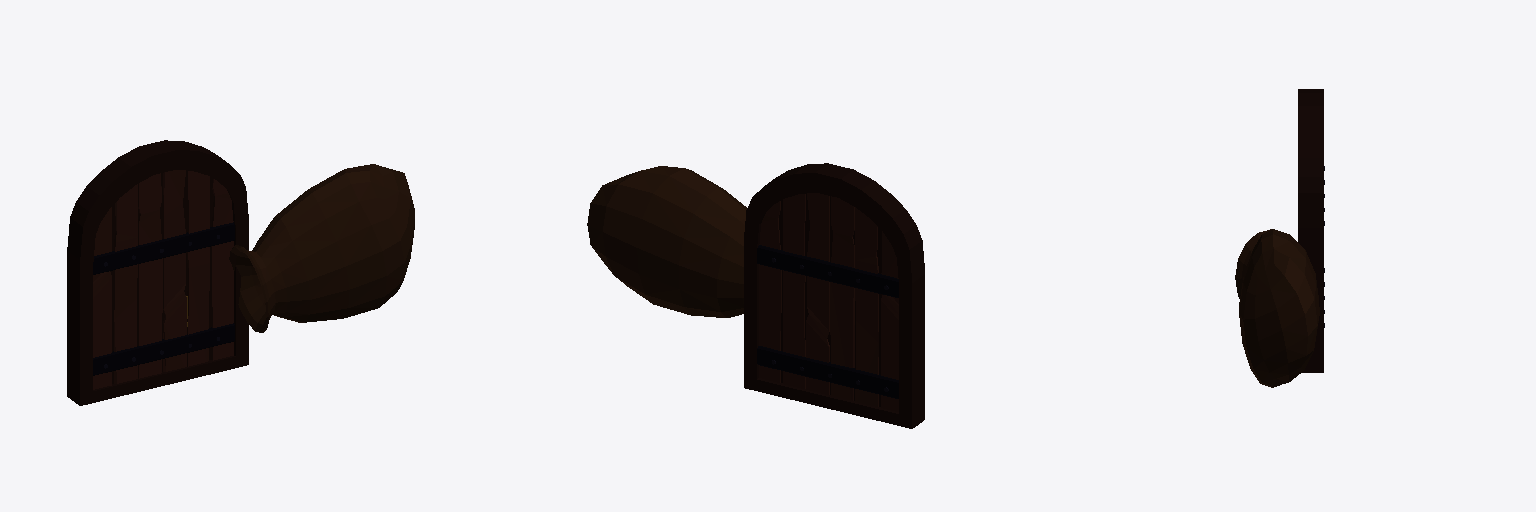
The model's file is Arch_Door_bottompivot_Cube.obj.
The picture shows the model from 3 angles: view 1: azimuth 30°, elevation 25°; view 2: azimuth 150°, elevation 25°; view 3: azimuth 270°, elevation 25°; orthographic projection.
Visible parts, largest first — view 1: Arch_Door_bottompivot_Cube.044, Bag_Coins_Cylinder.001; view 2: Arch_Door_bottompivot_Cube.044, Bag_Coins_Cylinder.001; view 3: Bag_Coins_Cylinder.001, Arch_Door_bottompivot_Cube.044.
Boxes of the visible parts, x1=… form: Arch_Door_bottompivot_Cube.044: x1=67, y1=140, x2=248, y2=405; Bag_Coins_Cylinder.001: x1=186, y1=164, x2=414, y2=332; Arch_Door_bottompivot_Cube.044: x1=744, y1=163, x2=924, y2=428; Bag_Coins_Cylinder.001: x1=587, y1=166, x2=746, y2=317; Bag_Coins_Cylinder.001: x1=1235, y1=229, x2=1319, y2=387; Arch_Door_bottompivot_Cube.044: x1=1298, y1=89, x2=1324, y2=372.
Bounding box in the file's own units: 4.78 × 3.19 × 1.12.